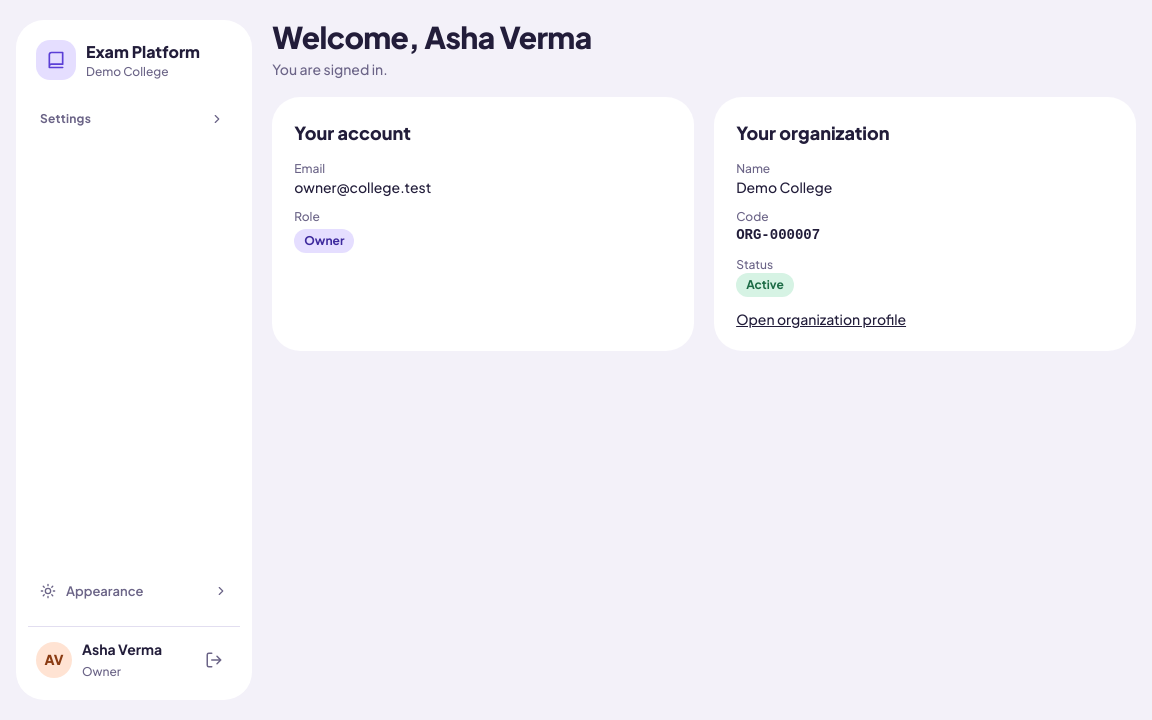
Test: sign out and switching users › Log out in the sidebar ends the session and returns to /login
Expected: the heading "Welcome, Asha Verma" is shown, 272,20 -> 592,54
Click the button with test id "nav-logout-btn".
click(214, 660)  # box 196,642 -> 232,678
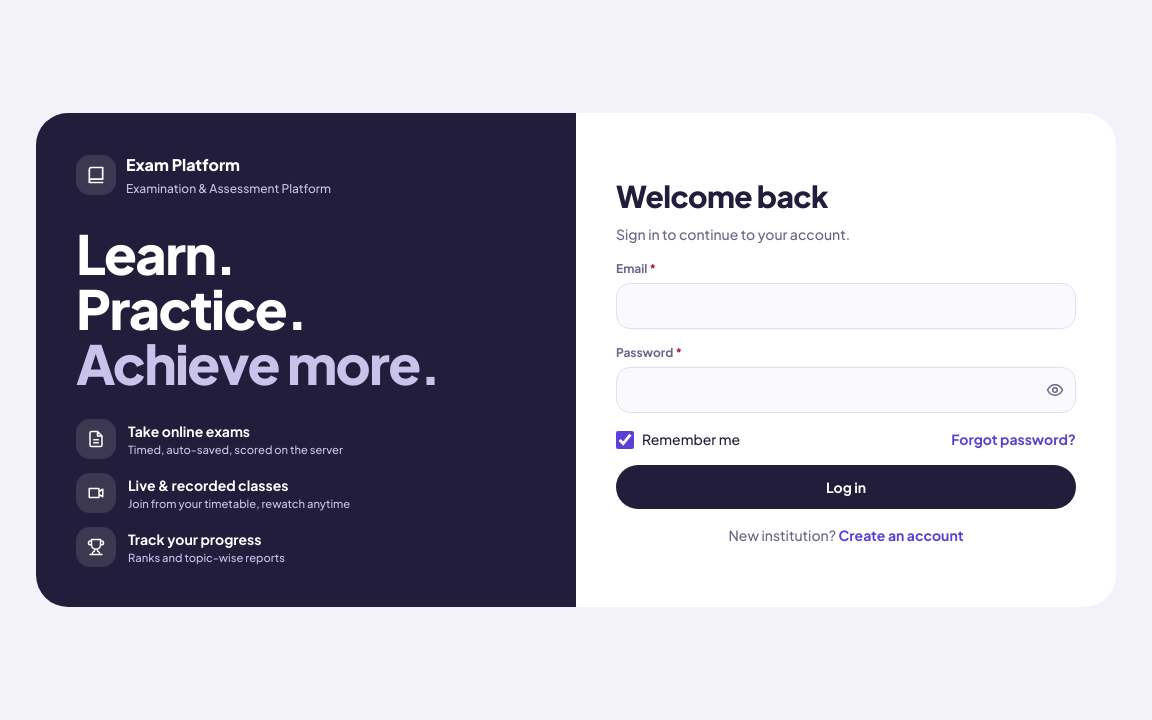
Result: the heading "Welcome back" is shown at 616,177 -> 828,215
